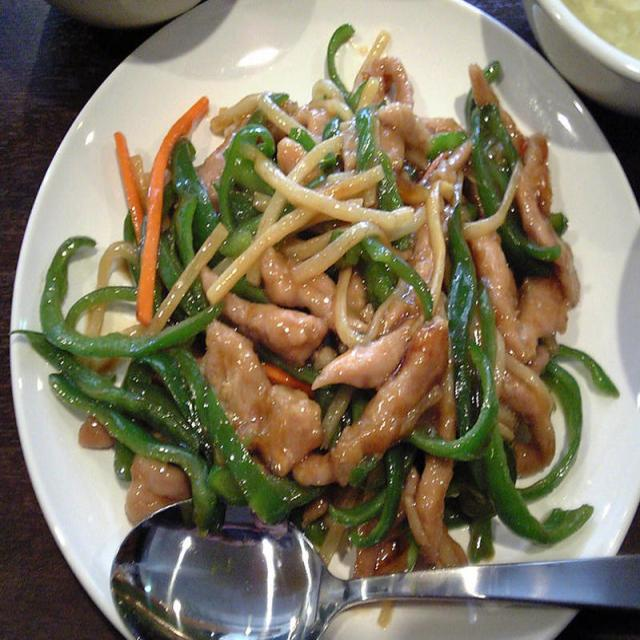牛肉菜式: (11, 29, 589, 558)
